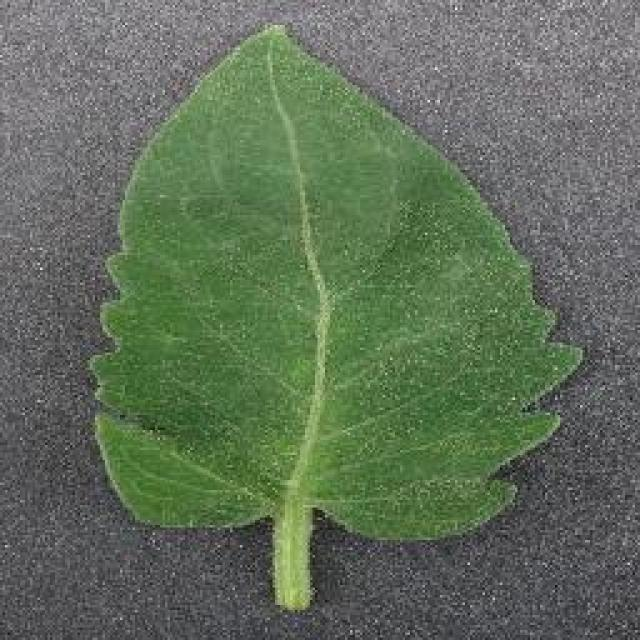Tomato___healthy: (89, 21, 591, 615)
